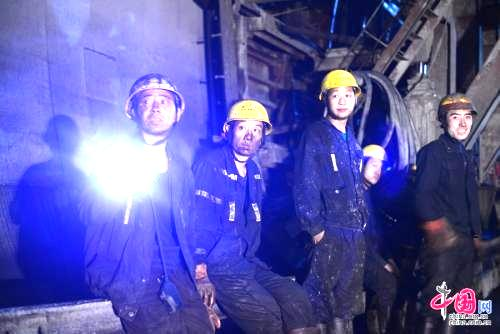helmet: (124, 73, 185, 134), (222, 98, 273, 157), (318, 69, 362, 119), (437, 91, 478, 141), (361, 143, 390, 185)
